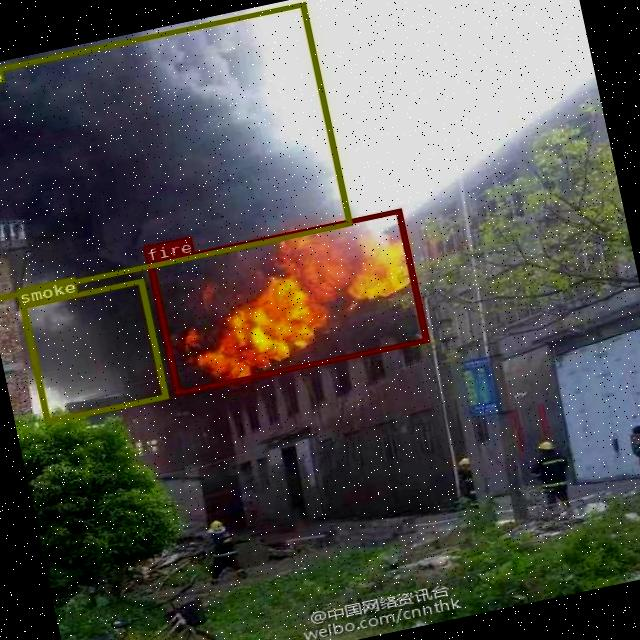fire: (146, 208, 429, 394)
smoke: (0, 0, 351, 301), (19, 277, 168, 423)
